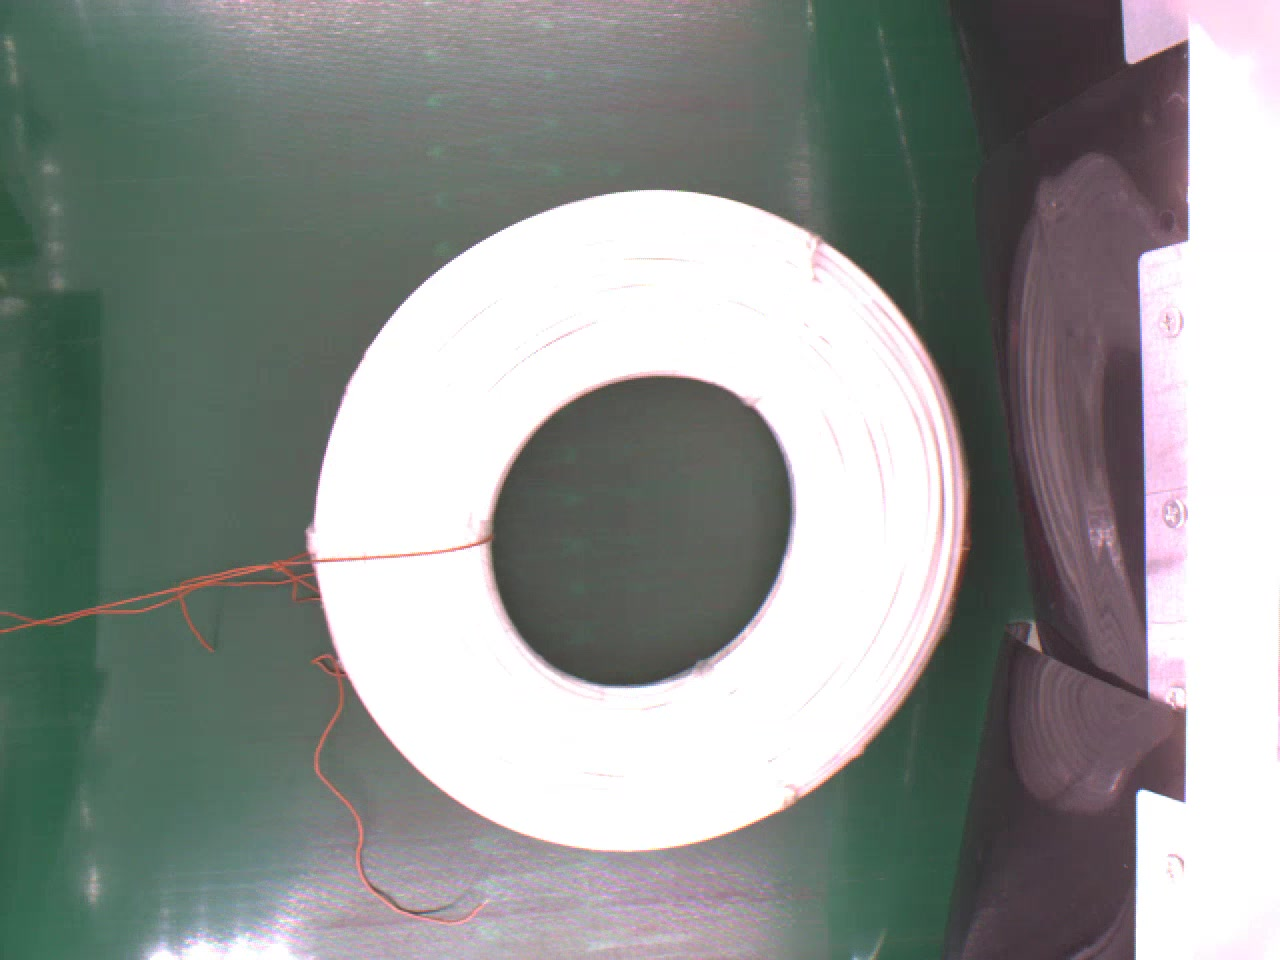white: (305, 185, 975, 855)
